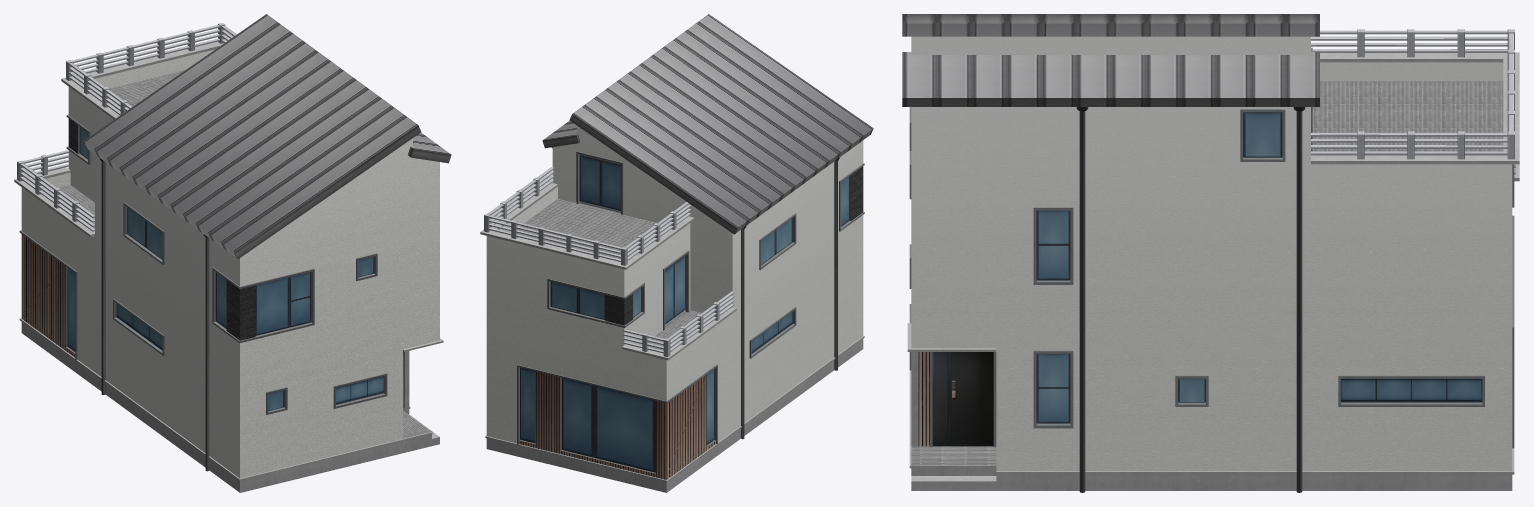
3 renders of one model, left to right at view 1: azimuth 30°, elevation 25°; view 2: azimuth 150°, elevation 25°; view 3: azimuth 270°, elevation 25°, orthographic. The views are drawn at different scales.
Visible parts, largest first — view 1: MainBuilding; view 2: MainBuilding; view 3: MainBuilding.
Boxes of the visible parts, left/top/right/bottom form: MainBuilding: left=14, top=14, right=451, bottom=492; MainBuilding: left=480, top=14, right=873, bottom=492; MainBuilding: left=902, top=14, right=1519, bottom=492.
Size of the model in its own units: 0.6691 by 0.9667 by 1.2.
Materials: 1 (1 with a texture image).
